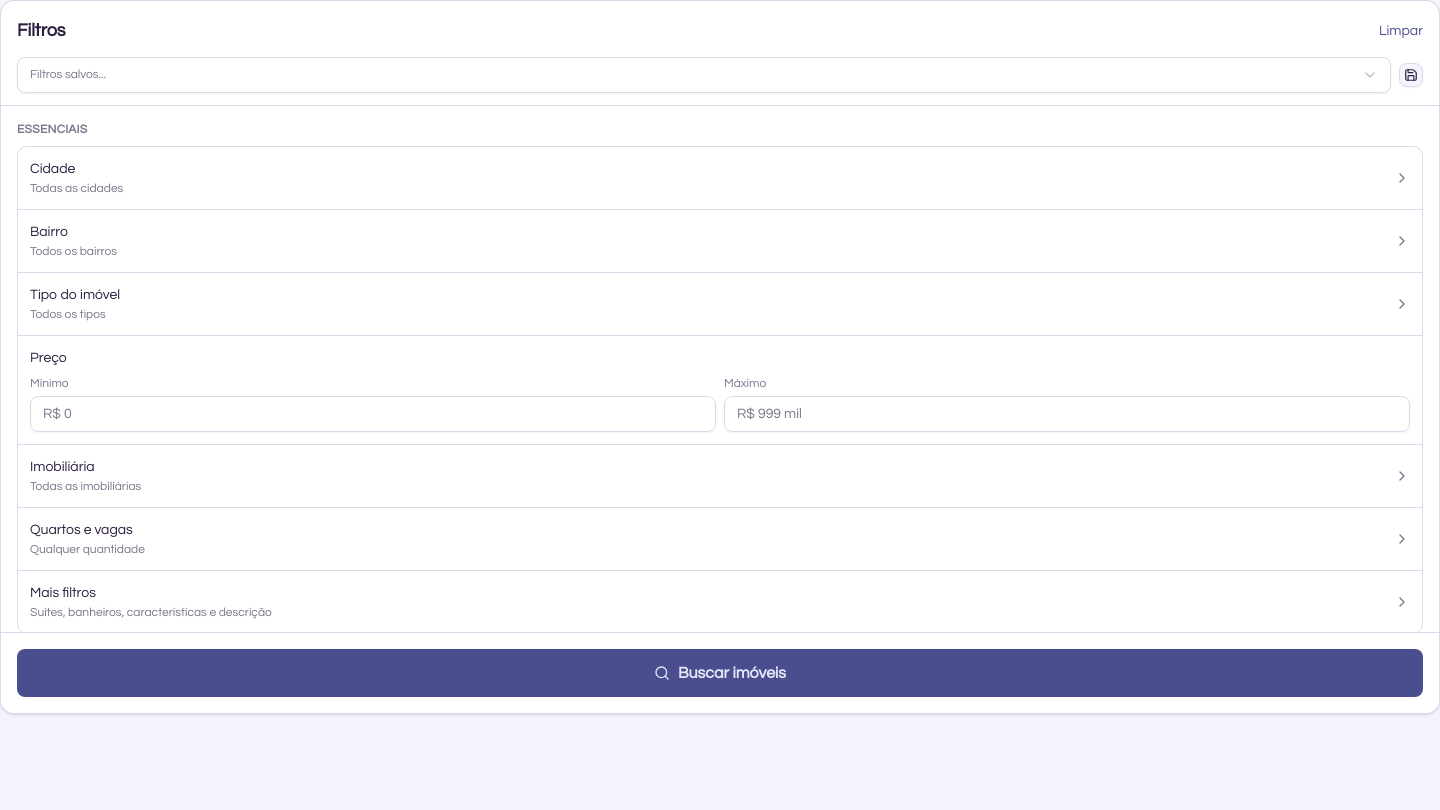
it: PropertyFilters › opens long option lists in the panel's only scroll area
This screenshot has width=1440, height=810.
Expected: the field labelled "Amizade" is not shown
Click the button with aria-label "Bairro: Todos os bairros". click: (49, 232)
box: [18,210,1422,273]
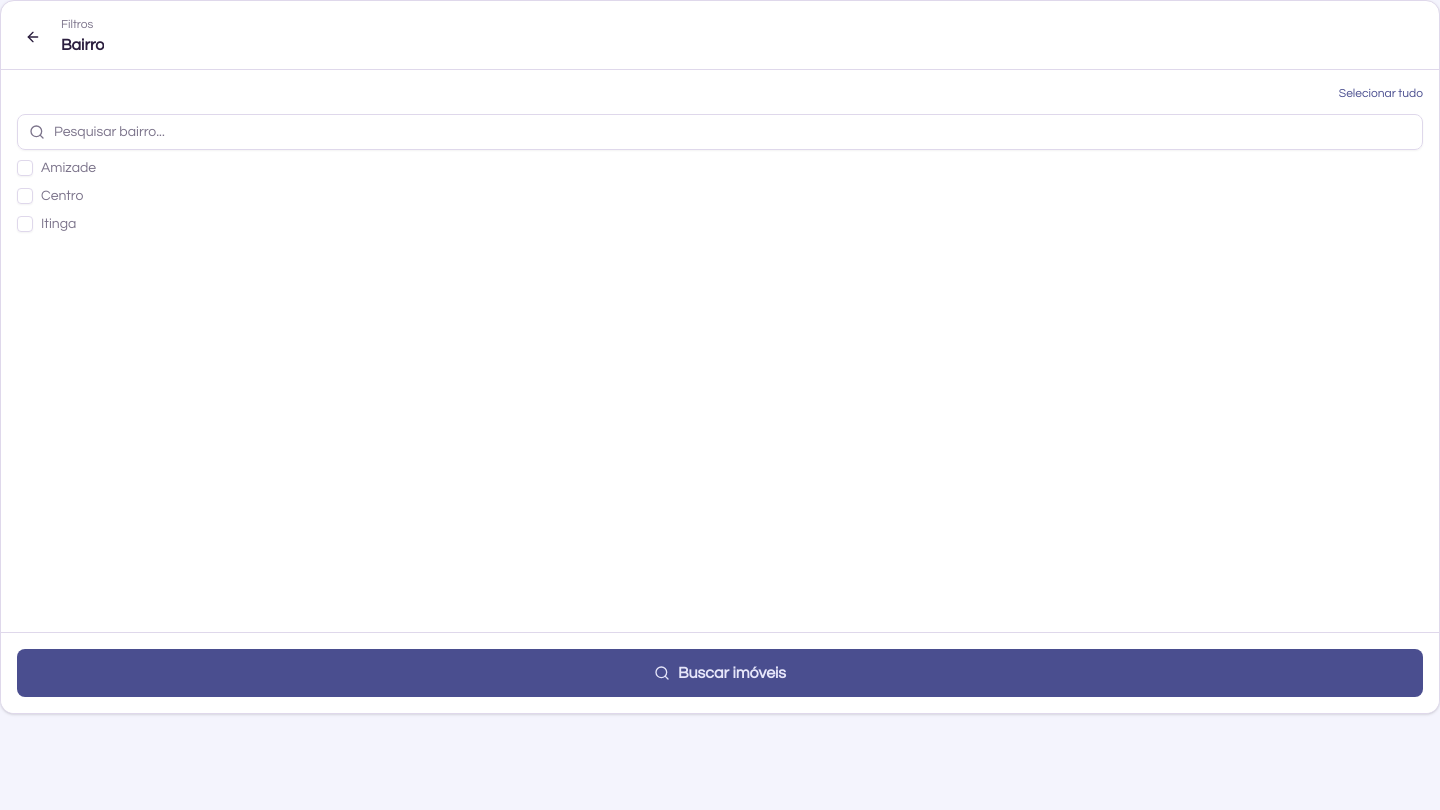
Now the checkbox named "Amizade" next to "Amizade" is shown, box [17,160,33,176]
